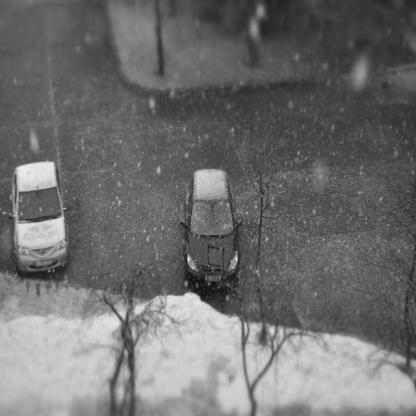Car: (180, 162, 244, 292), (3, 155, 70, 279)
